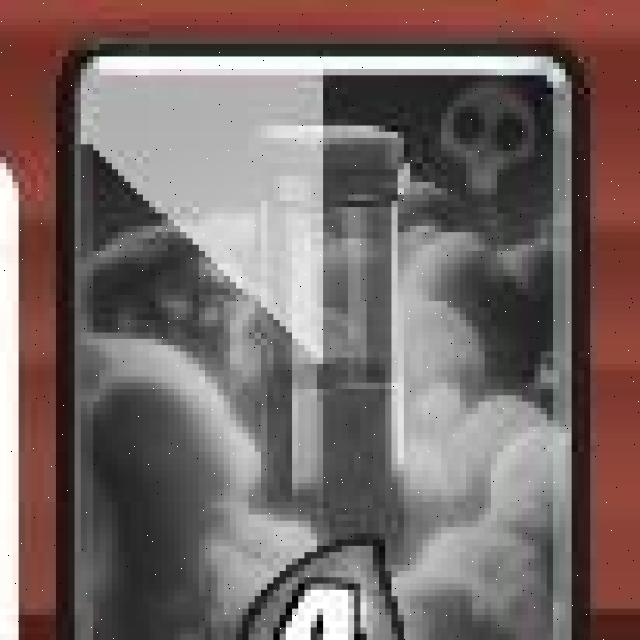Poison: (61, 46, 582, 640)
